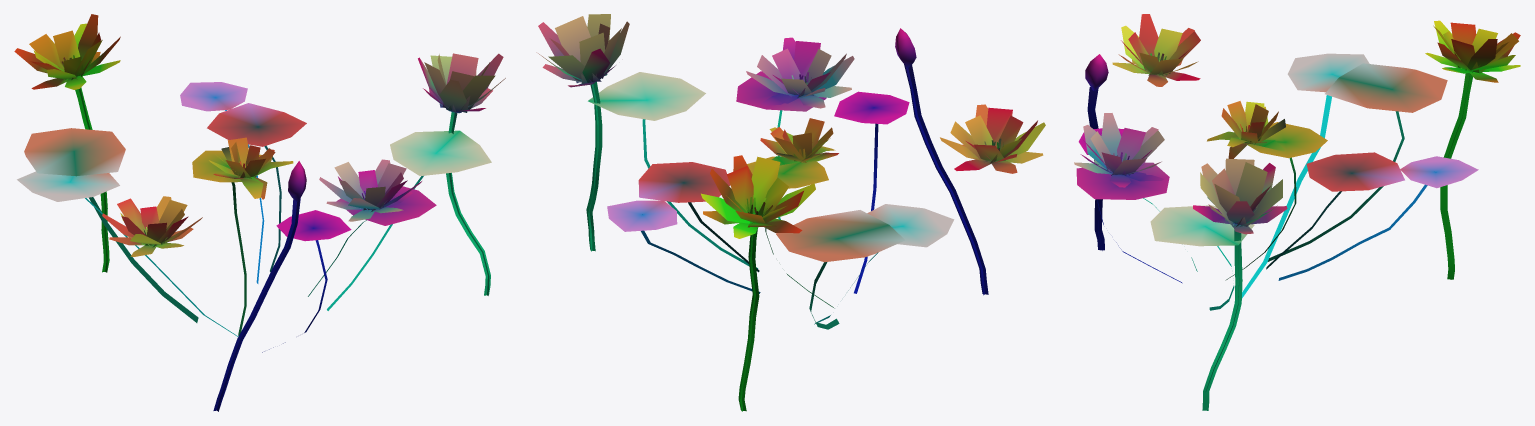
Rendered from Rembrandt_Water_Lily_uc2kajgia_High_uc2kajgia_VarG_LOD1.fbx.
3 renders of one model, left to right at view 1: azimuth 30°, elevation 25°; view 2: azimuth 150°, elevation 25°; view 3: azimuth 270°, elevation 25°, orthographic. The views are drawn at different scales.
Parts seen in each view (by area): view 1: _7d68_VarG_LOD2; view 2: _7d68_VarG_LOD2; view 3: _7d68_VarG_LOD2.
Part boxes in pixels (x1,y1,x2,y2): _7d68_VarG_LOD2: (14, 14, 505, 411); _7d68_VarG_LOD2: (536, 14, 1045, 411); _7d68_VarG_LOD2: (1074, 14, 1520, 410).
Bounding box in the file's own units: 124 × 67.51 × 110.
